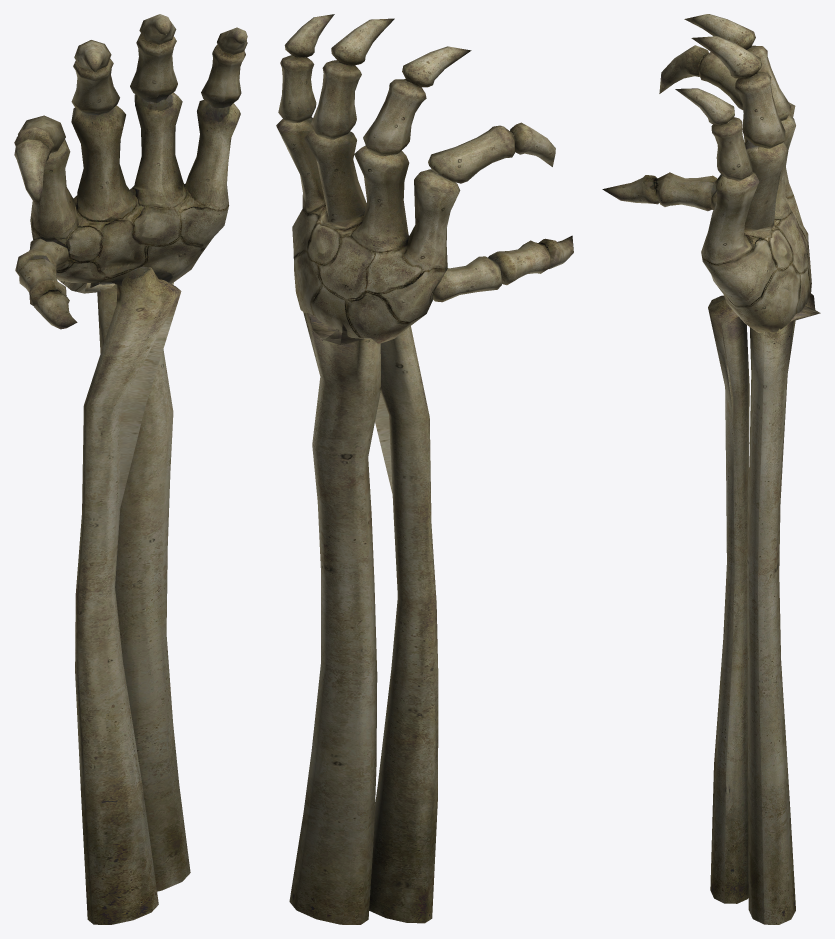
File: lurkerworm-lod0.glb
The picture shows the model from 3 angles, left to right: view 1: azimuth 30°, elevation 25°; view 2: azimuth 150°, elevation 25°; view 3: azimuth 270°, elevation 25°; orthographic projection. The views are drawn at different scales.
Visible parts, largest first — view 1: halloween_skeleton01; view 2: halloween_skeleton01; view 3: halloween_skeleton01.
Boxes of the visible parts, bbox=[...] form: halloween_skeleton01: bbox=[14, 14, 247, 924]; halloween_skeleton01: bbox=[276, 14, 573, 924]; halloween_skeleton01: bbox=[602, 14, 820, 924].
Size of the model in its own units: 2.23 by 7.71 by 1.75.
Materials: 1 (1 with a texture image).
